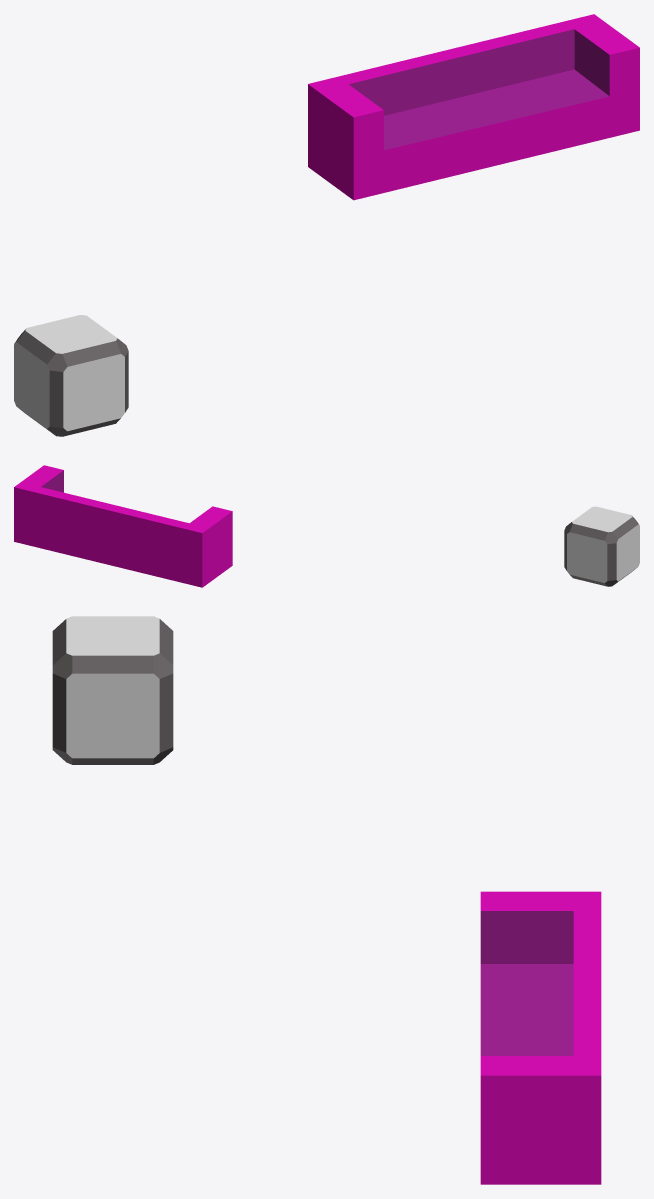
File: Terrain.glb
3 views of the same model, one above another, from view 1: azimuth 30°, elevation 25°; view 2: azimuth 150°, elevation 25°; view 3: azimuth 270°, elevation 25° (orthographic). The views are drawn at different scales.
Visible parts, largest first — view 1: Cube, NPC_01; view 2: Cube, NPC_01; view 3: Cube, NPC_01.
Boxes of the visible parts, bbox=[...] form: Cube: bbox=[308, 14, 639, 200]; NPC_01: bbox=[14, 315, 128, 436]; Cube: bbox=[14, 465, 232, 587]; NPC_01: bbox=[564, 506, 639, 586]; Cube: bbox=[480, 891, 601, 1184]; NPC_01: bbox=[52, 616, 173, 764].
Size of what is drawn, in the model's own units: 18.87 by 2.28 by 9.1.
